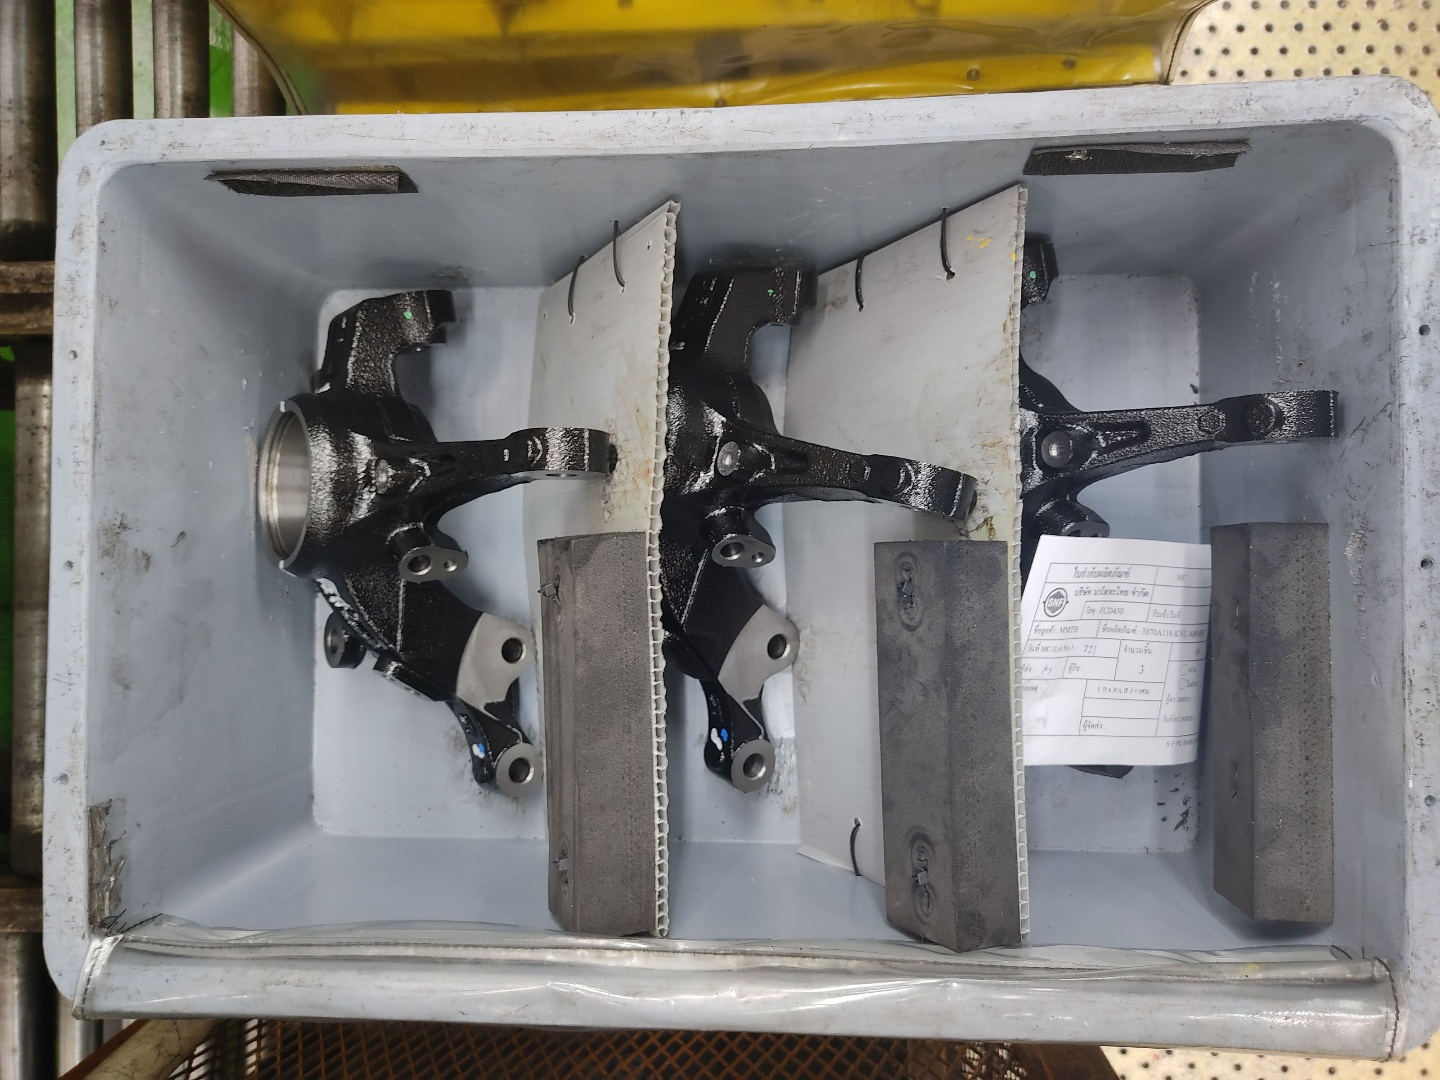abs-rh: (997, 225, 1349, 795), (246, 281, 615, 816), (650, 242, 985, 807)
